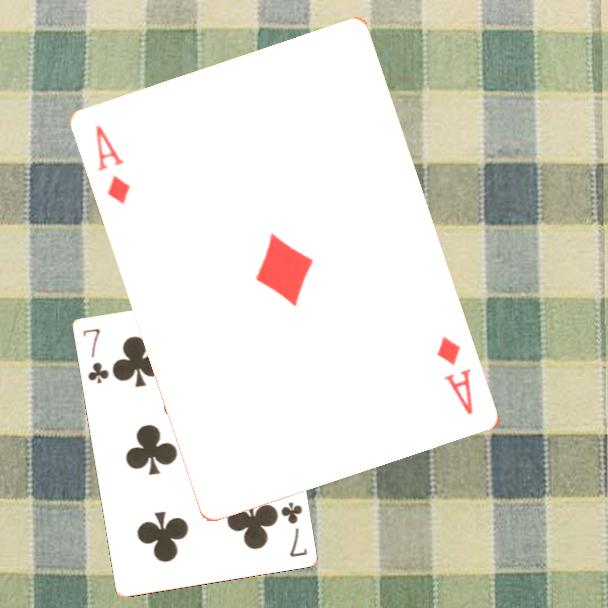c07: (79, 324, 112, 386), (277, 498, 310, 560)
d01: (434, 332, 477, 418), (92, 121, 134, 207)
